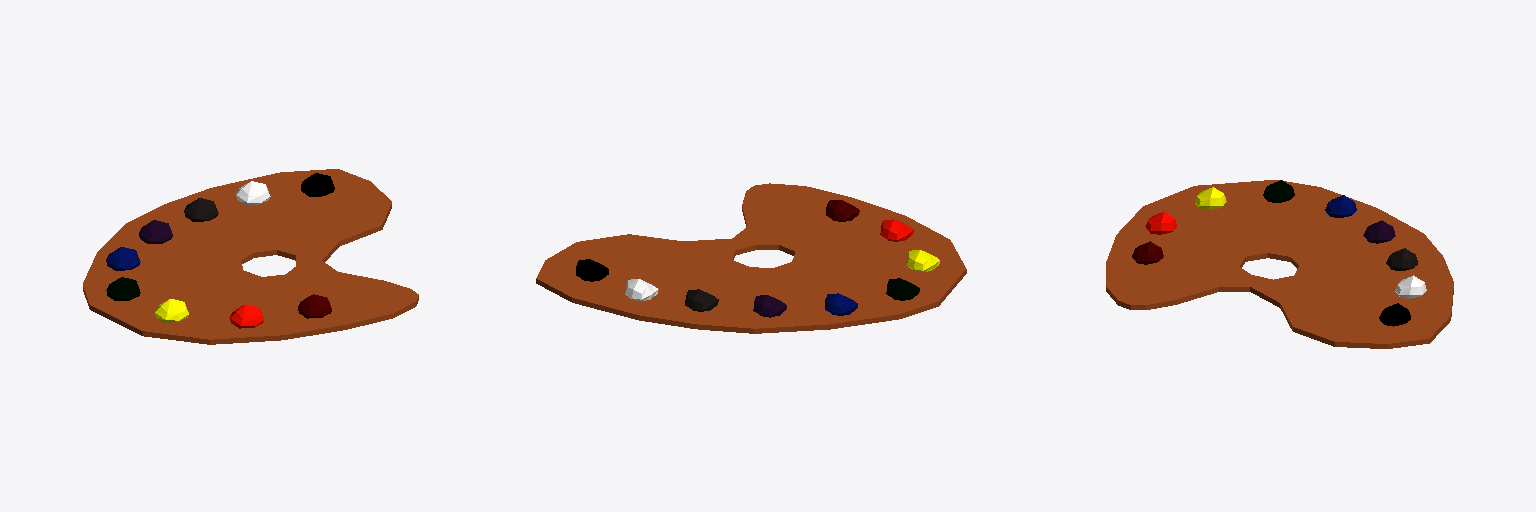
File: palette.obj
The picture shows the model from 3 angles: view 1: azimuth 30°, elevation 25°; view 2: azimuth 150°, elevation 25°; view 3: azimuth 270°, elevation 25°; orthographic projection.
Size of the model in its own units: 1.61 by 0.1006 by 1.44.